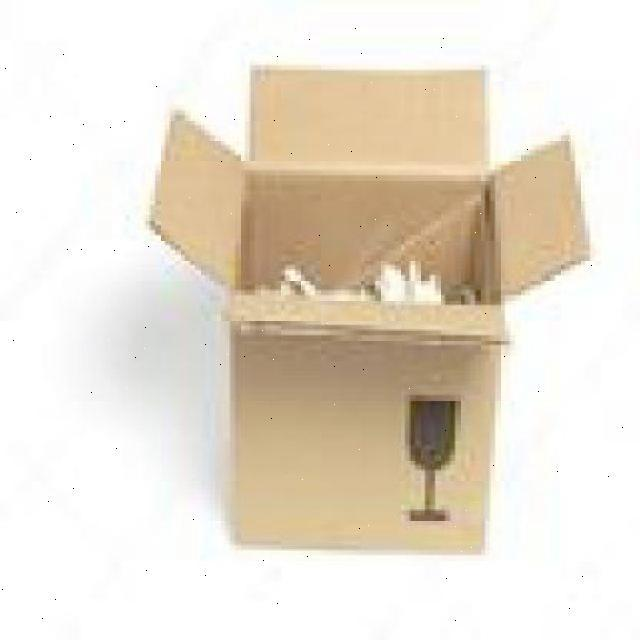box: (146, 67, 595, 558)
opened: (147, 66, 593, 345)
